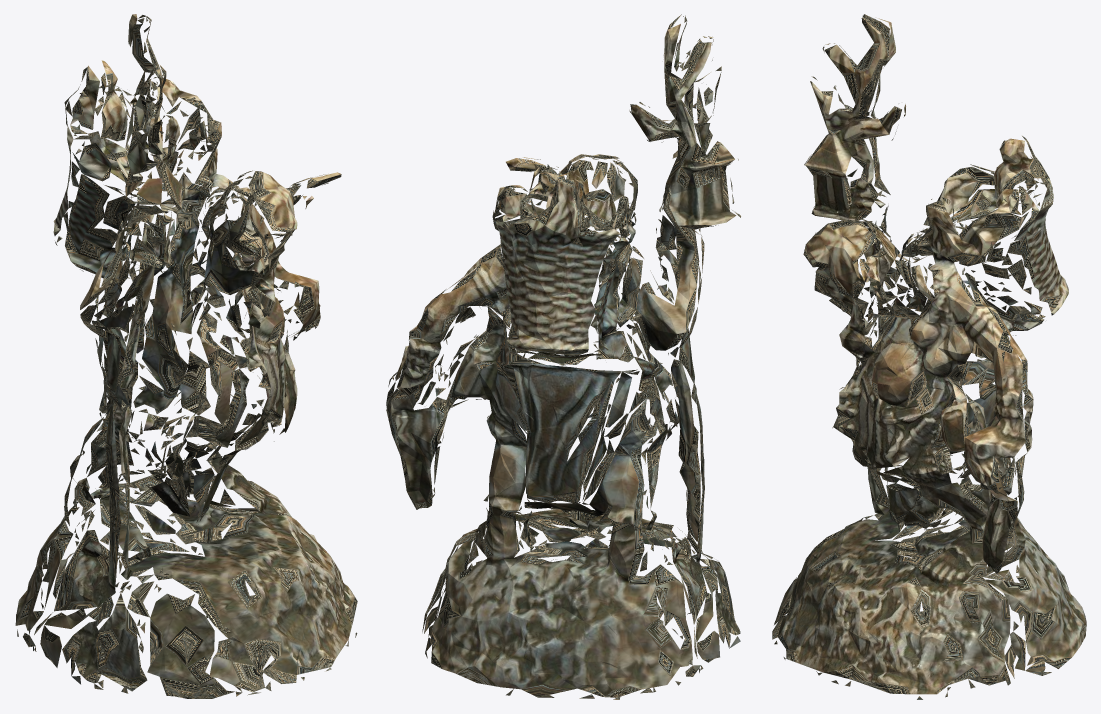
The model's file is bean_chioch.glb.
3 views of the same model, side by side, from view 1: azimuth 30°, elevation 25°; view 2: azimuth 150°, elevation 25°; view 3: azimuth 270°, elevation 25° (orthographic). The views are drawn at different scales.
Parts seen in each view (by area): view 1: geometry_0; view 2: geometry_0; view 3: geometry_0.
Part boxes in pixels (left/top/right/bottom): geometry_0: left=15, top=14, right=357, bottom=698; geometry_0: left=386, top=14, right=740, bottom=699; geometry_0: left=772, top=14, right=1086, bottom=699.
Size of the model in its own units: 0.016 by 0.0322 by 0.0158.
1 material, 1 textured.
